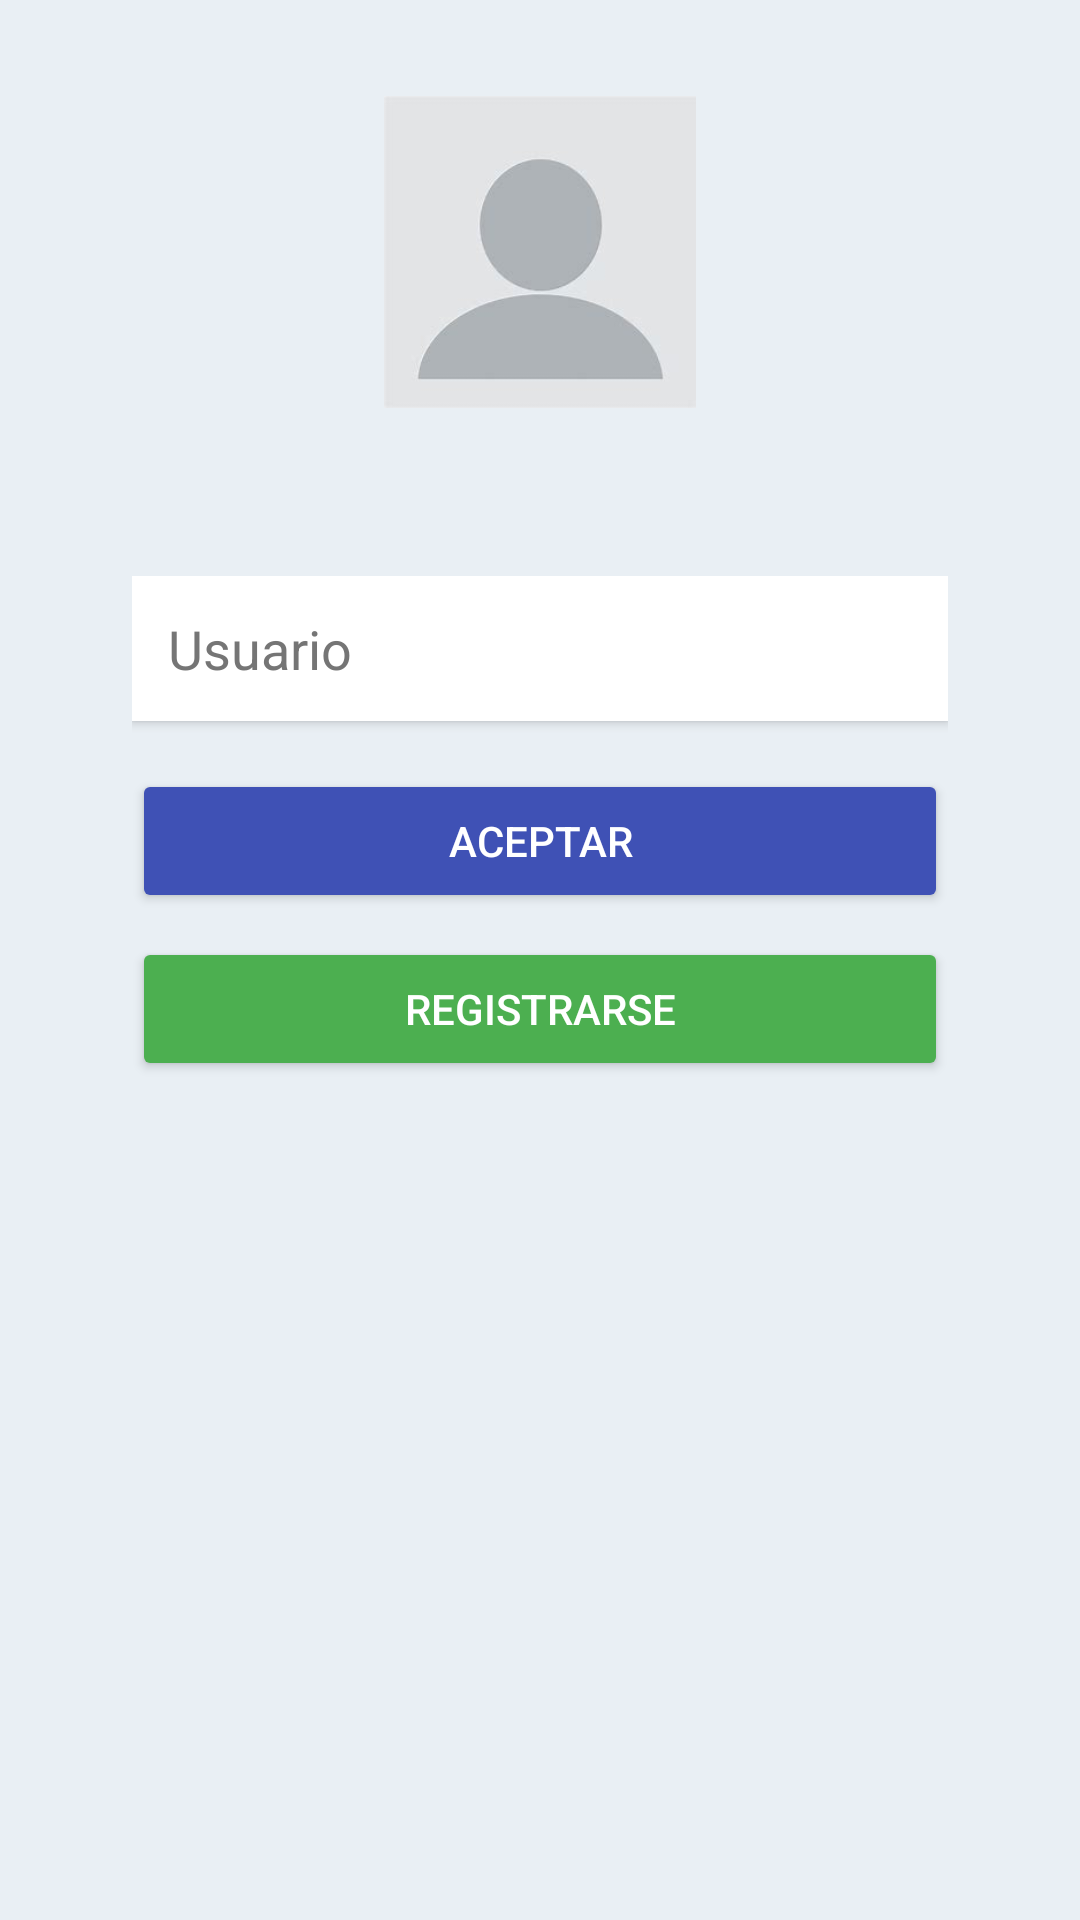

Where icons sit on this 1080px×1920px app screen, as (x1, y1, x2, y2):
Imagen de perfil: (418, 159, 663, 380)
